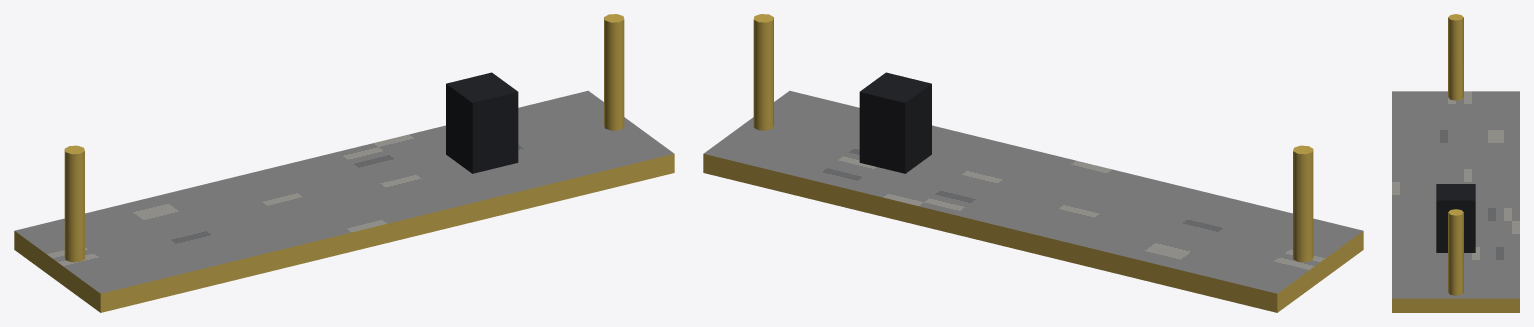
File: COM_PumpIsland.glb
3 views of the same model, side by side, from view 1: azimuth 30°, elevation 25°; view 2: azimuth 150°, elevation 25°; view 3: azimuth 270°, elevation 25° (orthographic). The views are drawn at different scales.
Visible parts, largest first — view 1: COM_PumpIsland_Mesh; view 2: COM_PumpIsland_Mesh; view 3: COM_PumpIsland_Mesh.
Boxes of the visible parts, left/top/right/bottom form: COM_PumpIsland_Mesh: left=14, top=14, right=674, bottom=312; COM_PumpIsland_Mesh: left=703, top=14, right=1363, bottom=312; COM_PumpIsland_Mesh: left=1392, top=14, right=1519, bottom=312.
Size of what is drawn, in the model's own units: 5 by 1.06 by 1.3.
Materials: 1 (1 with a texture image).
